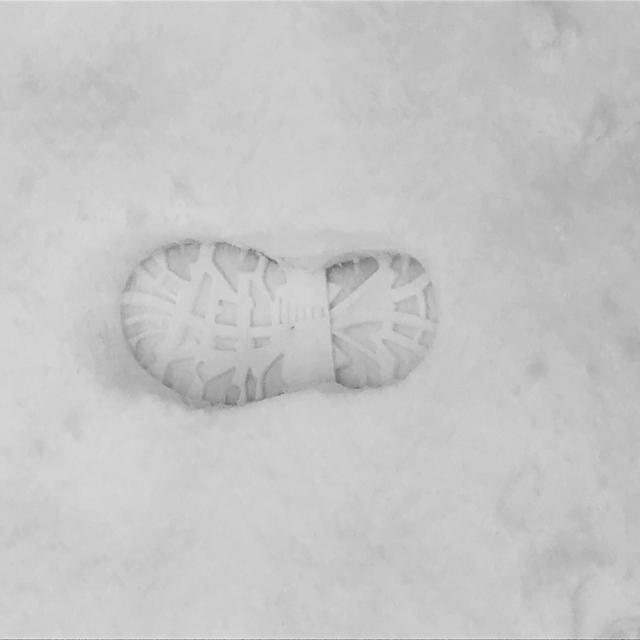human_foot_print: (116, 235, 442, 411)
